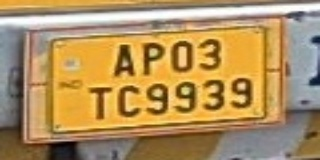0: (168, 40, 195, 76)
3: (197, 37, 224, 73), (201, 78, 227, 114)
9: (143, 82, 171, 117), (172, 81, 199, 115), (229, 76, 254, 111)
A: (110, 42, 137, 79)
C: (114, 84, 142, 119)
P: (139, 40, 167, 78)
T: (83, 85, 114, 119)
